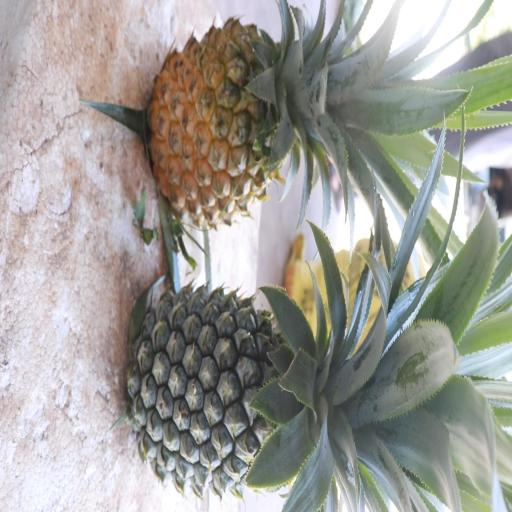Pineapple - v8 v1: (150, 10, 420, 222)
